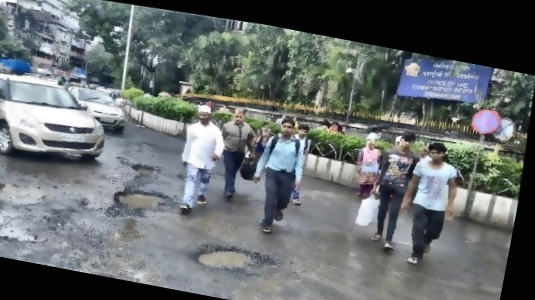pothole: (191, 238, 255, 275), (110, 182, 173, 219), (128, 159, 159, 178)
